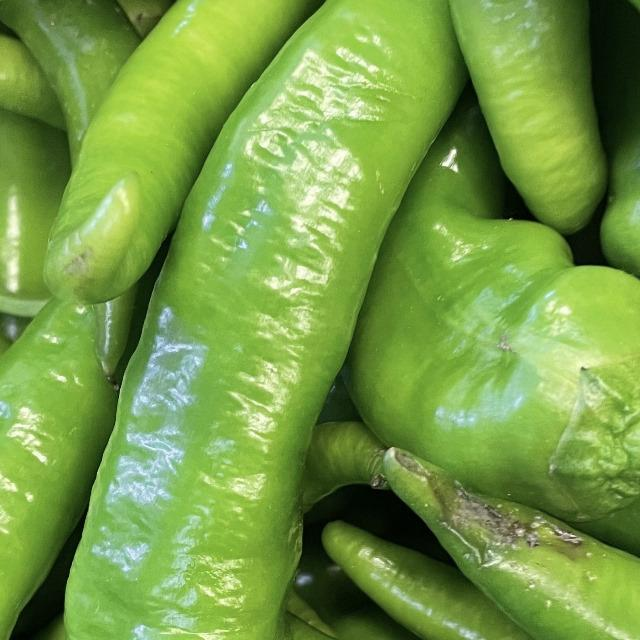chili_pepper: (55, 0, 557, 640)
